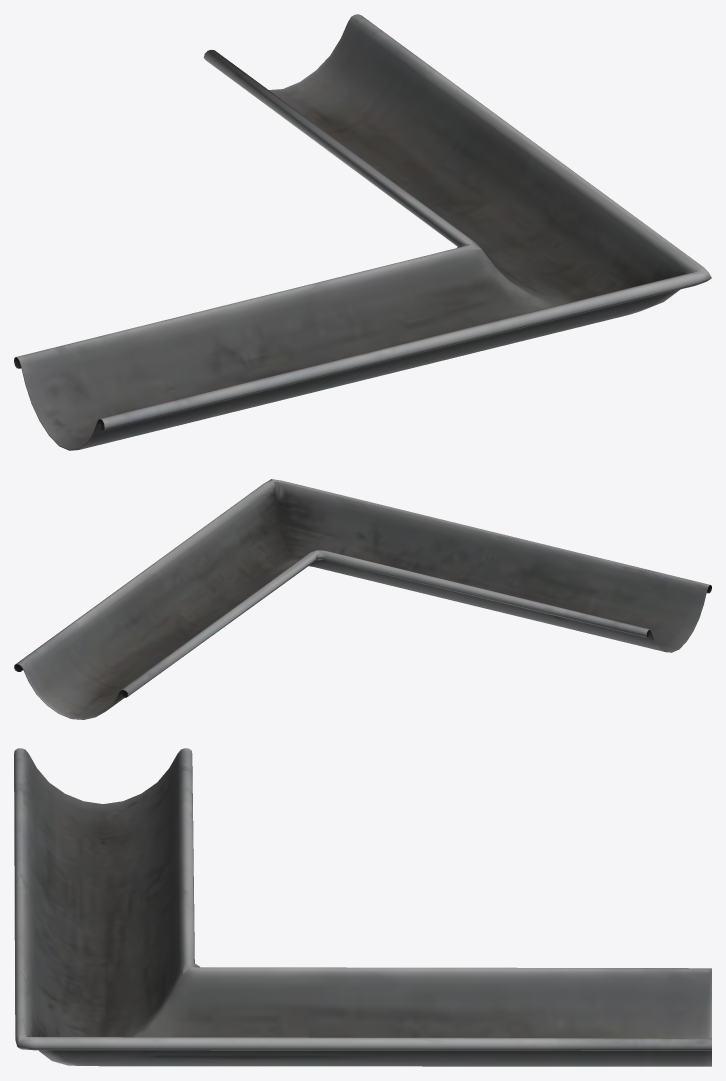
The model's file is modular-metal-gutter-corner.glb.
3 renders of one model, top to bottom at view 1: azimuth 30°, elevation 25°; view 2: azimuth 150°, elevation 25°; view 3: azimuth 270°, elevation 25°, orthographic. The views are drawn at different scales.
Parts seen in each view (by area): view 1: modular_metal_gutter_corner; view 2: modular_metal_gutter_corner; view 3: modular_metal_gutter_corner.
Boxes of the visible parts, x1,y1,x2,y2 form: modular_metal_gutter_corner: [14, 14, 711, 450]; modular_metal_gutter_corner: [14, 479, 711, 719]; modular_metal_gutter_corner: [14, 748, 711, 1066].
Size of the model in its own units: 1.51 by 0.1375 by 1.51.
1 material, 1 textured.
